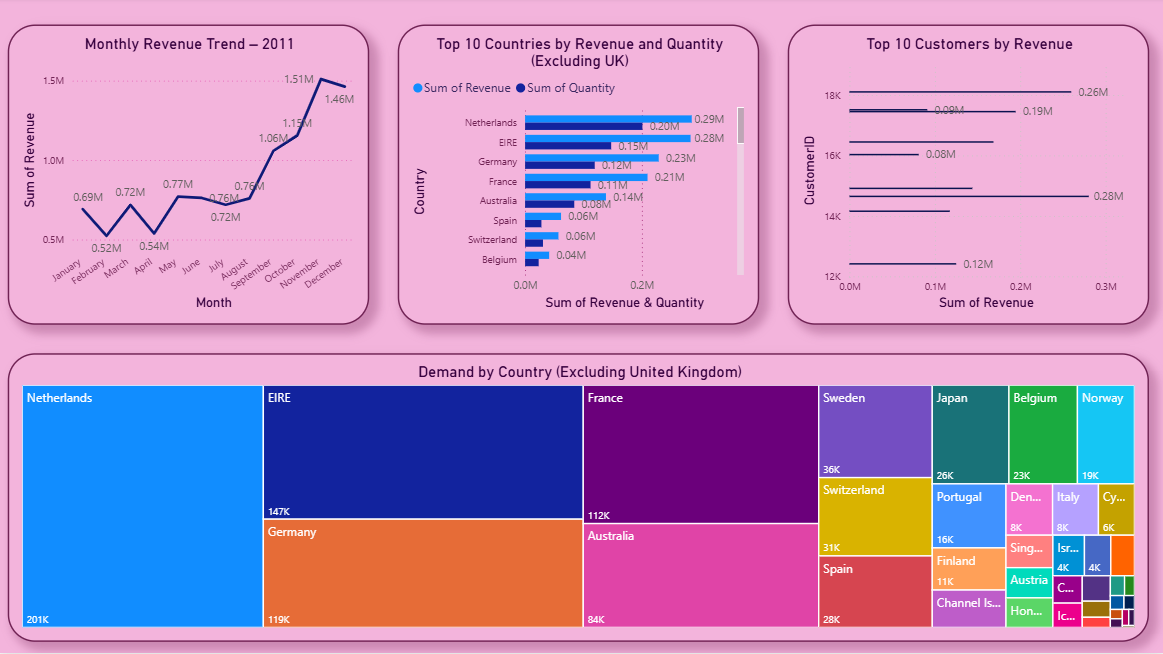

This screenshot's page, from the dashboard's own definition file:
{"tool":"powerbi","page":{"name":"CEO & CMO Insights – Online Retail","canvas":[1280,720],"ordinal":0},"visuals":[{"type":"lineChart","title":"Monthly Revenue Trend – 2011","fields":{"Category":["Online Retail.InvoiceDate.Variation.Date Hierarchy.Month"],"Y":["Sum(Online Retail.Revenue)"]},"box":[9.6,30.2,396.6,329.3],"z":0},{"type":"clusteredBarChart","title":"Top 10 Countries by Revenue and Quantity (Excluding UK)","fields":{"Category":["Online Retail.Country"],"Y":["Sum(Online Retail.Revenue)","Sum(Online Retail.Quantity)"]},"box":[437.7,30.2,396.6,329.3],"z":1000},{"type":"clusteredBarChart","title":"Top 10 Customers by Revenue","fields":{"Category":["Online Retail.CustomerID"],"Y":["Sum(Online Retail.Revenue)"]},"box":[865.9,30.2,396.6,329.3],"z":2000},{"type":"treemap","title":"Demand by Country (Excluding United Kingdom)","fields":{"Group":["Online Retail.Country"],"Values":["Sum(Online Retail.Quantity)"]},"box":[9.6,391.1,1252.8,317],"z":3000}]}

Visuals, with their boxes in screenshot pixels (x1, y1, x2, y2), scaled from the page's 1280x720 canvas onto the 1163x654 screenshot:
"Monthly Revenue Trend – 2011" lineChart: rect(9, 27, 369, 327)
"Top 10 Countries by Revenue and Quantity (Excluding UK)" clusteredBarChart: rect(398, 27, 758, 327)
"Top 10 Customers by Revenue" clusteredBarChart: rect(787, 27, 1147, 327)
"Demand by Country (Excluding United Kingdom)" treemap: rect(9, 355, 1147, 643)
